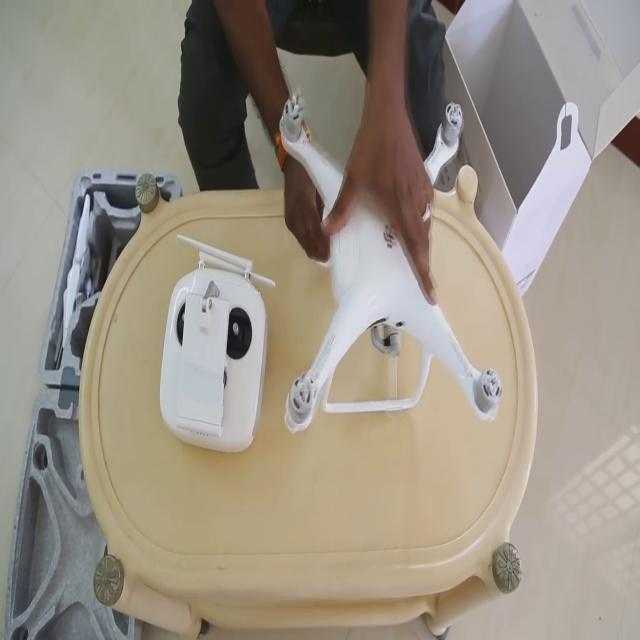drone: (265, 82, 513, 454)
